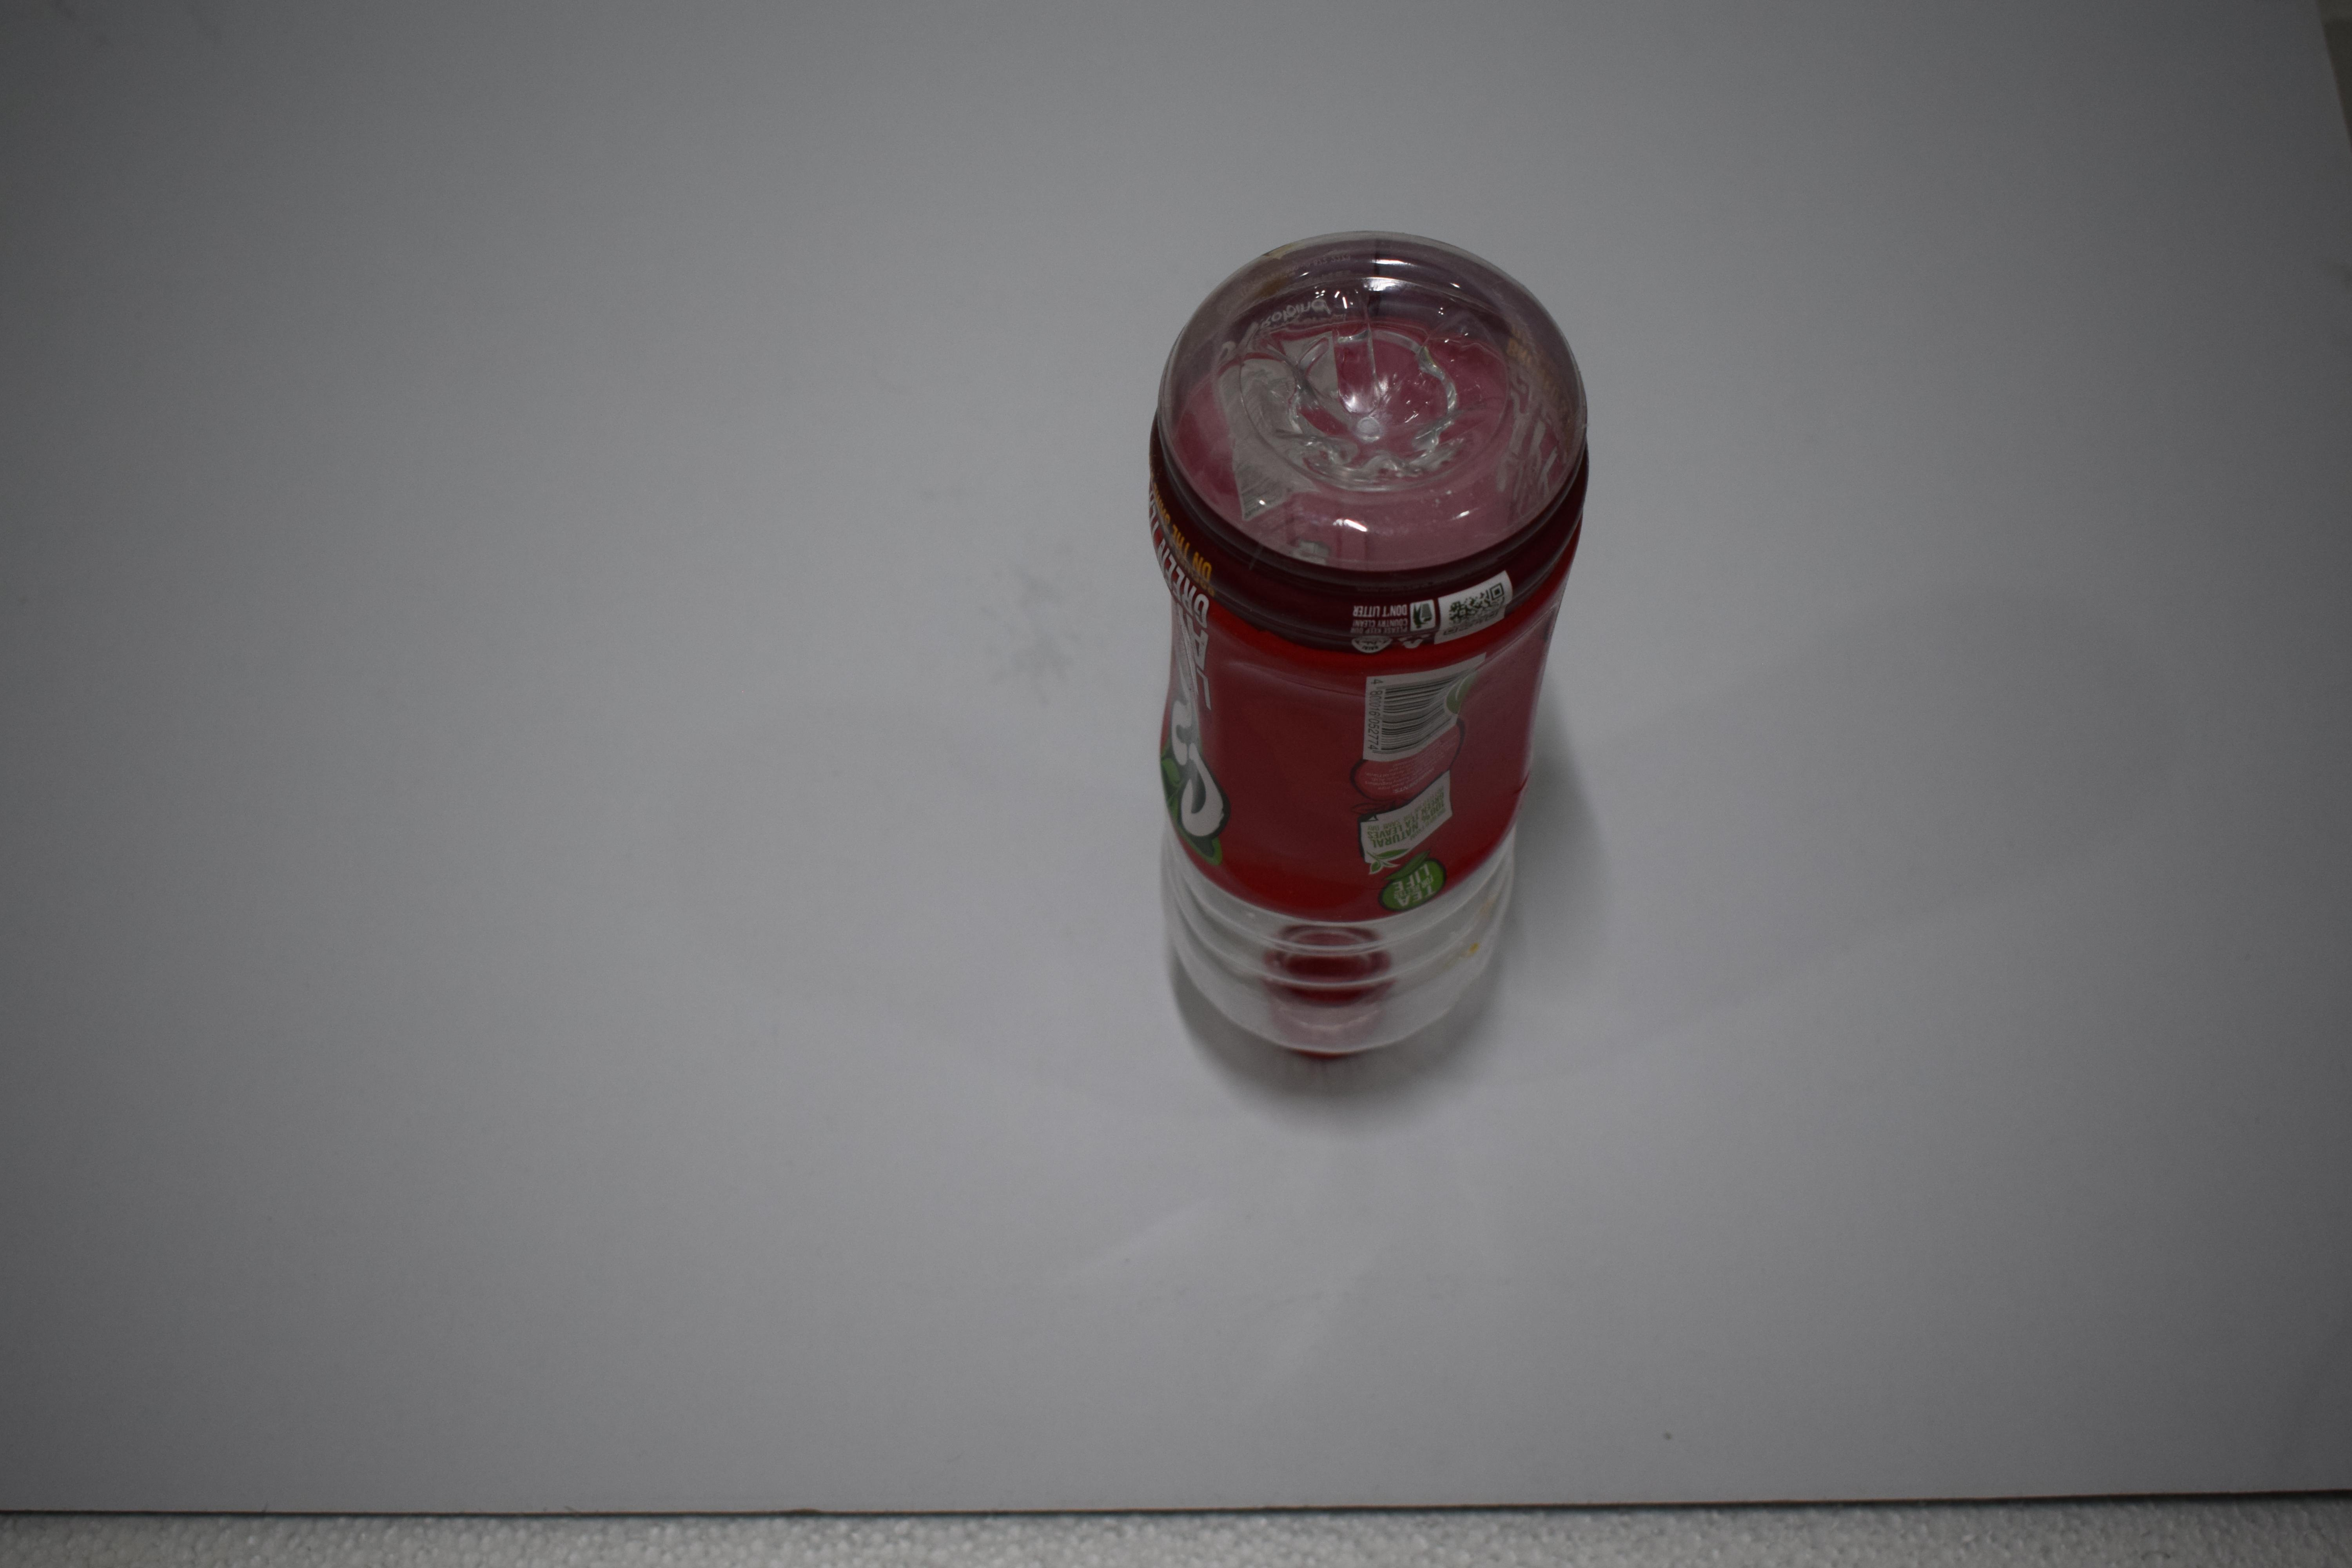bottle: (0, 611, 413, 674)
